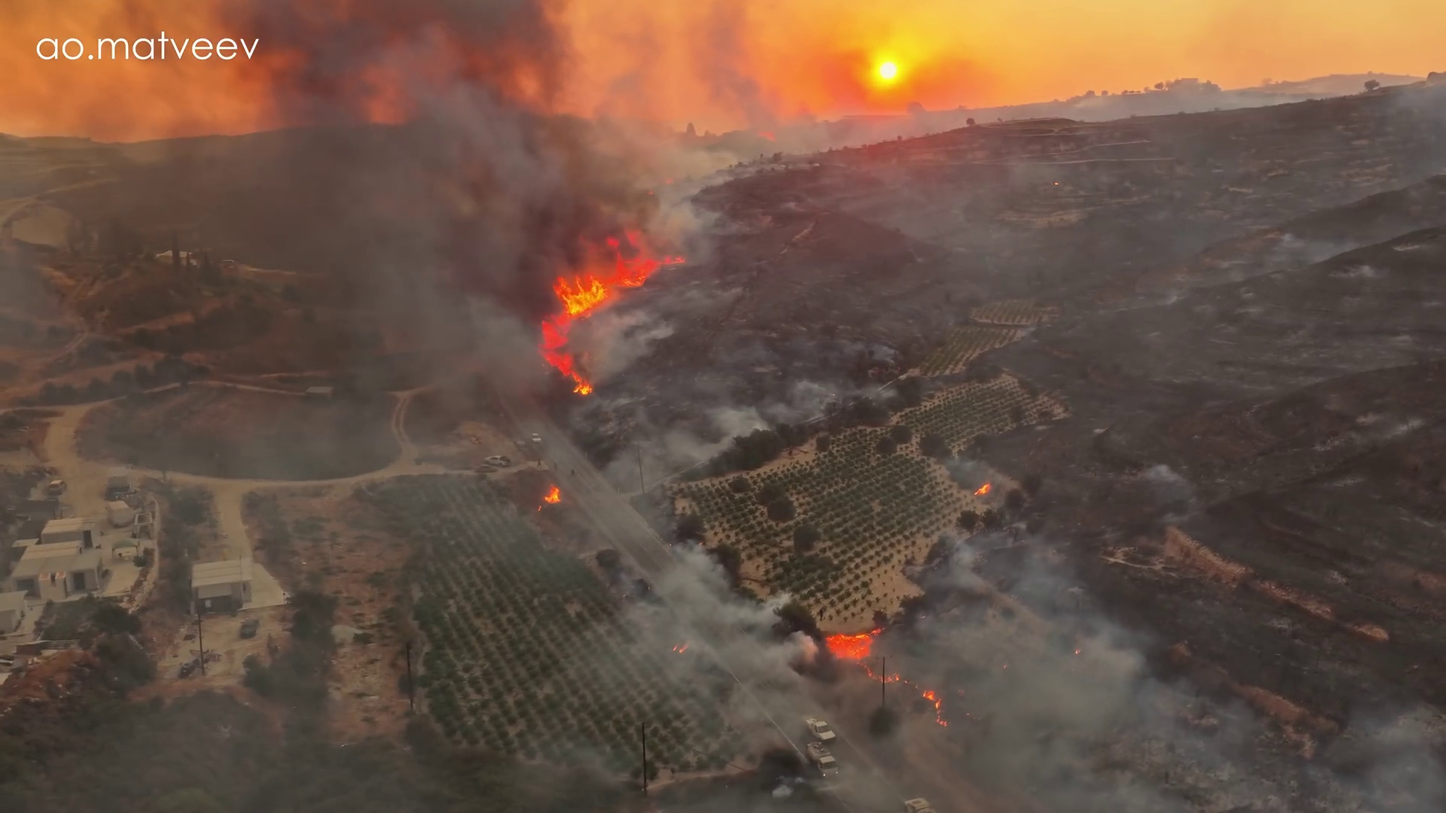forest_fire: (539, 230, 684, 394), (825, 629, 947, 725), (825, 629, 881, 660), (542, 483, 560, 503), (542, 485, 560, 501), (974, 483, 991, 495), (536, 505, 542, 510)
